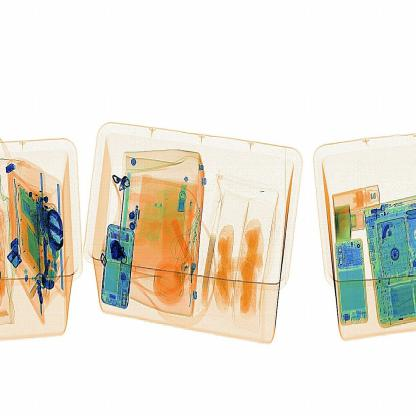scissors: (102, 230, 132, 269)
